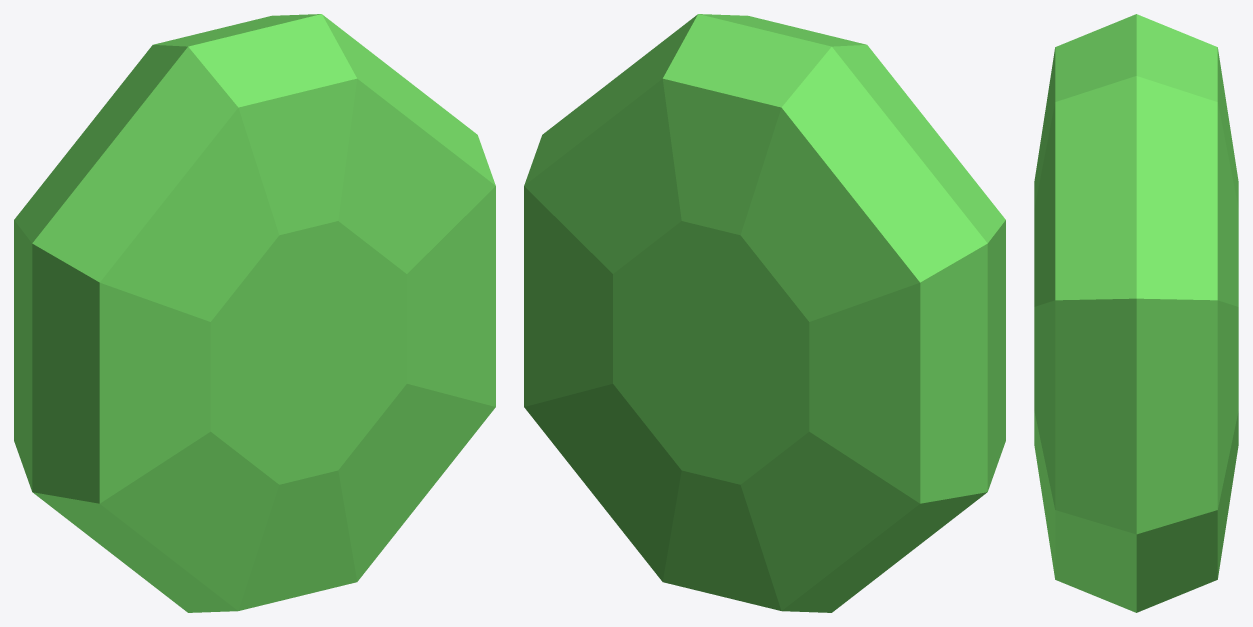
Rendered from Emerald.fbx.
3 views of the same model, side by side, from view 1: azimuth 30°, elevation 25°; view 2: azimuth 150°, elevation 25°; view 3: azimuth 270°, elevation 25° (orthographic). The views are drawn at different scales.
Visible parts, largest first — view 1: Emerald; view 2: Emerald; view 3: Emerald.
Boxes of the visible parts, x1,y1,x2,y2 form: Emerald: (14,14,495,612); Emerald: (524,14,1005,612); Emerald: (1034,14,1238,612).
Size of the model in its own units: 0.3 by 0.3644 by 0.1256.
